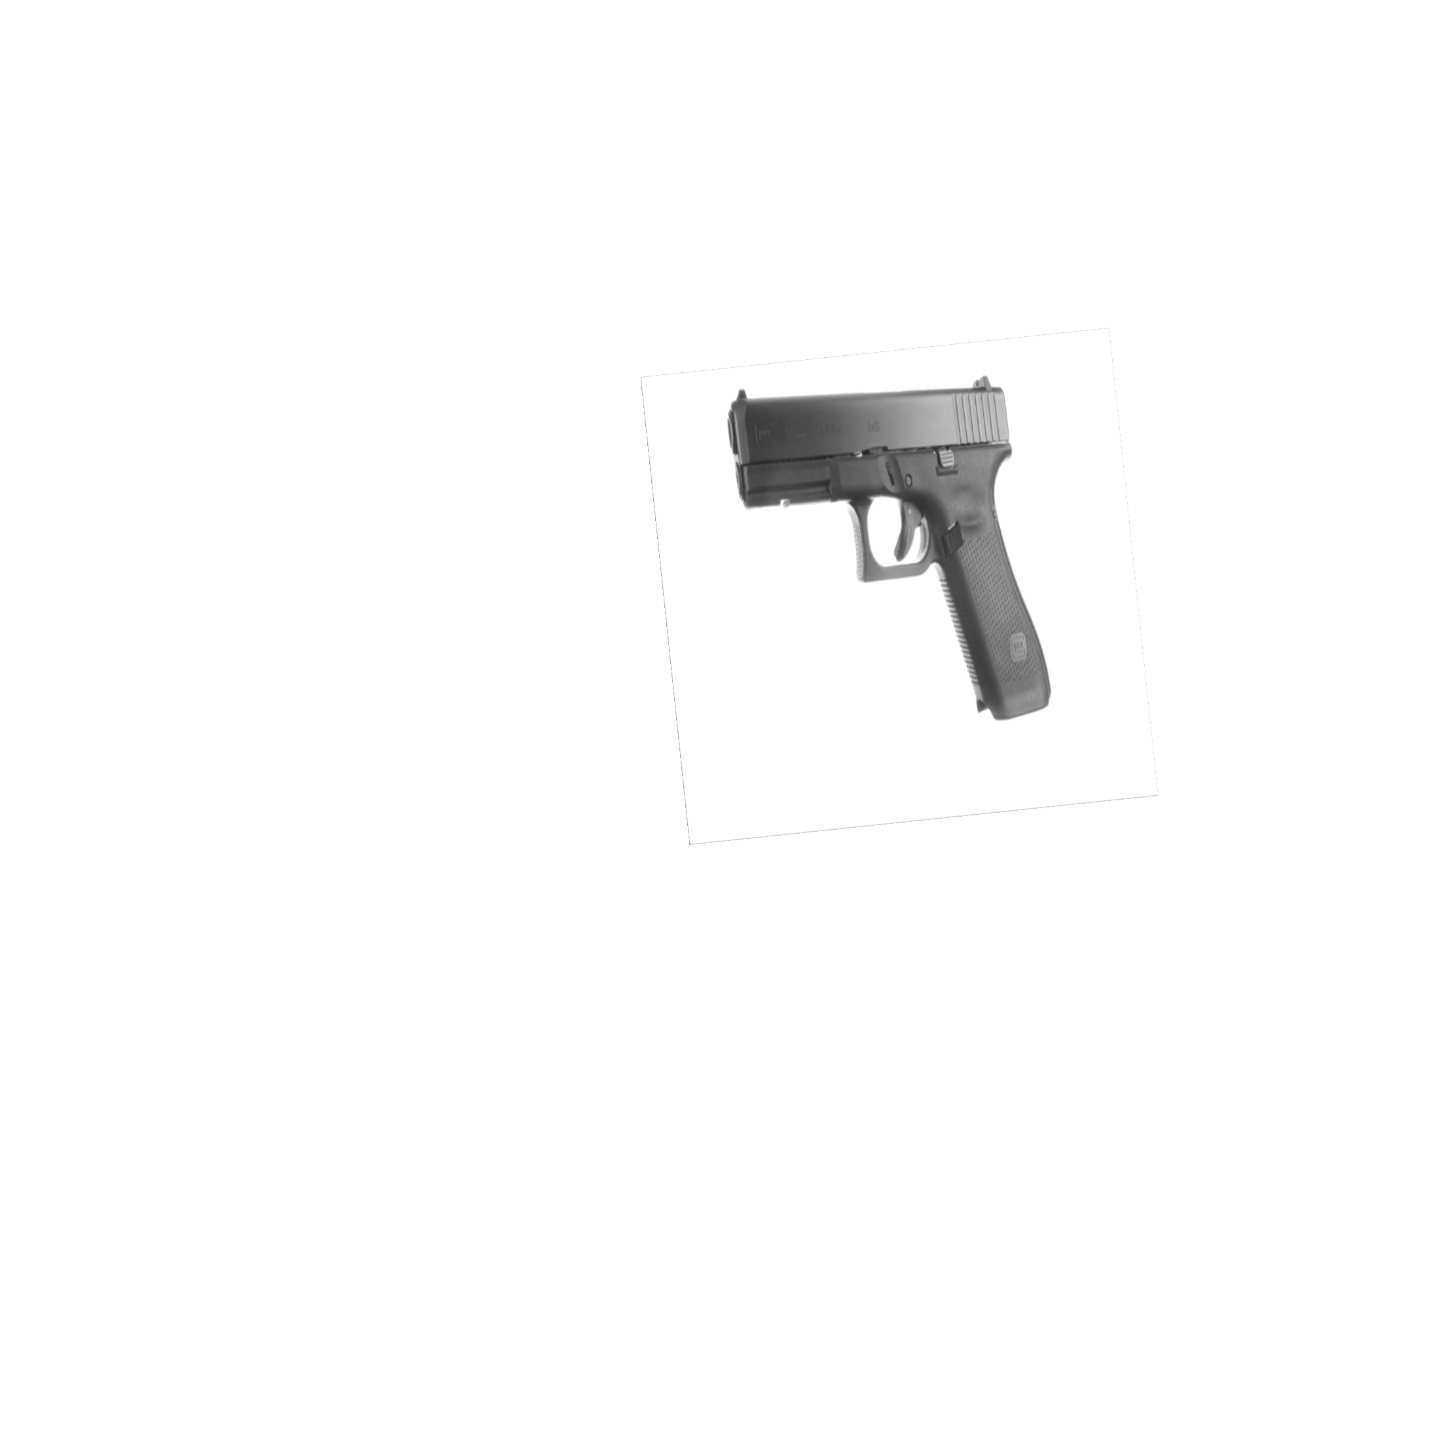gun: (719, 377, 1057, 726)
